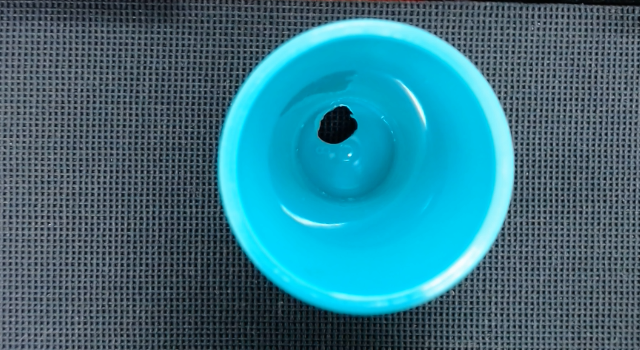hole: (318, 106, 358, 144)
